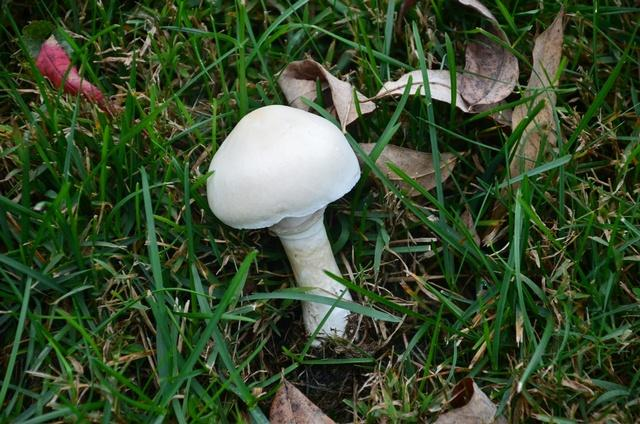poisonous_mushroom: (205, 103, 362, 348)
